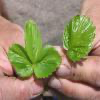Strawberry leaf: (61, 14, 96, 64), (34, 43, 62, 82), (7, 43, 34, 79), (22, 19, 44, 63)
